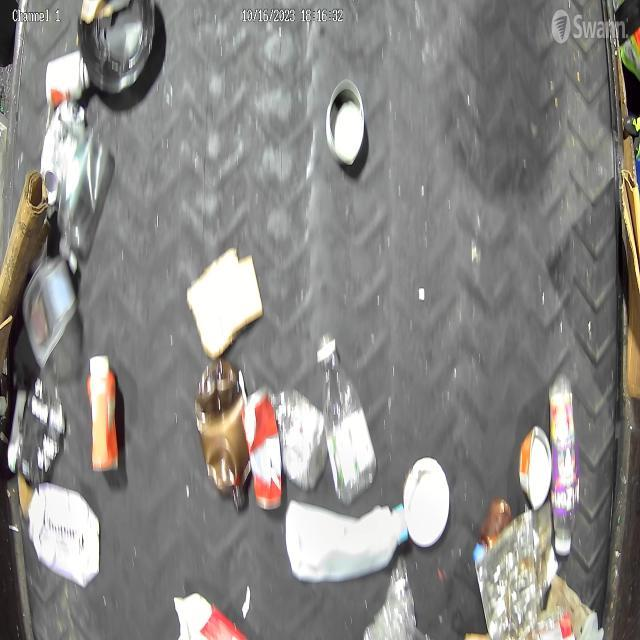can: (40, 100, 88, 202), (246, 384, 282, 509), (326, 81, 364, 165), (518, 424, 552, 510)
milk_jug: (285, 503, 408, 582)
plastic_bottle: (315, 330, 379, 506)
